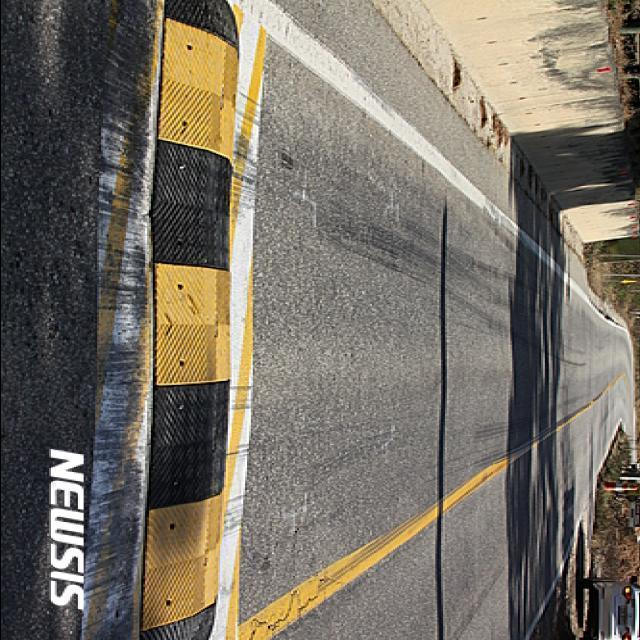speedbreaker: (112, 0, 250, 640)
